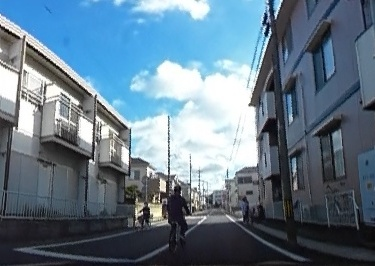person: (166, 182, 188, 252), (139, 198, 151, 226), (241, 196, 251, 224)
